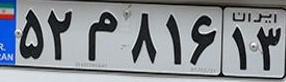character: (85, 8, 121, 65), (188, 9, 218, 71), (129, 7, 159, 66), (45, 6, 76, 62), (17, 7, 45, 62), (255, 24, 282, 75), (162, 11, 186, 66), (227, 23, 251, 72)
